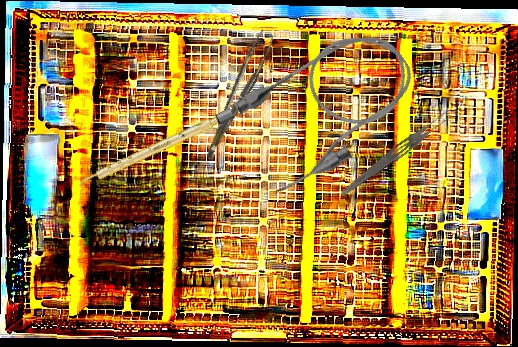Cannula: (223, 12, 434, 202)
Dressing Forceps: (338, 106, 455, 202)
Scalpel Handle: (76, 107, 235, 190)
Tissue Forceps: (191, 28, 282, 160)
